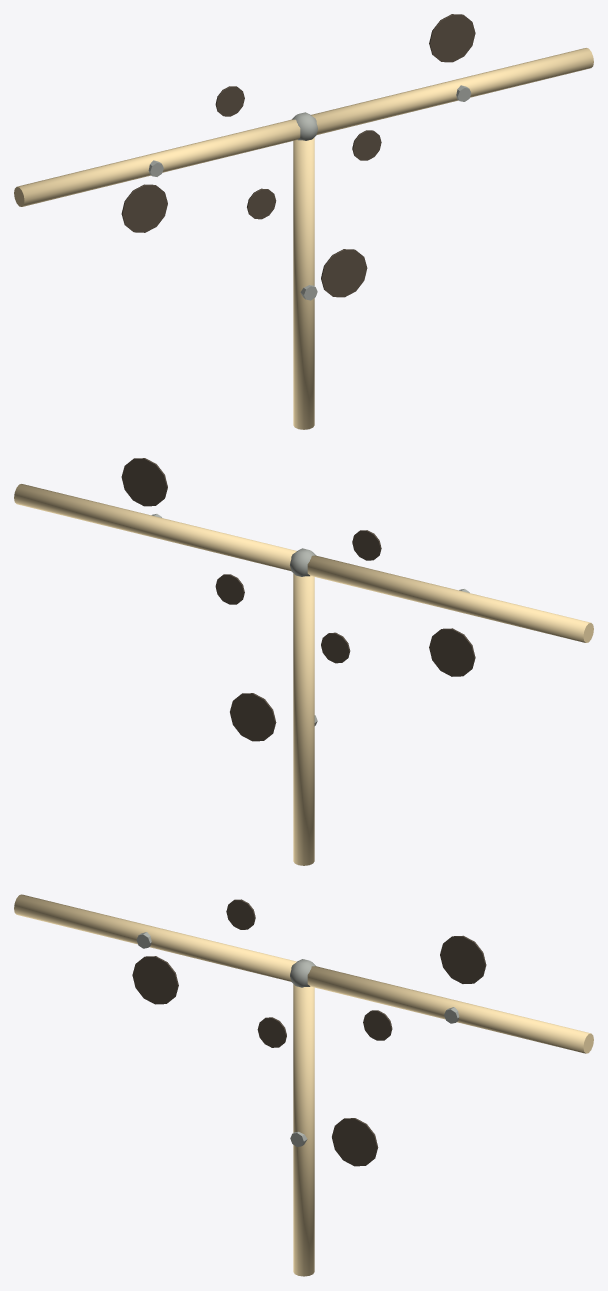
Rendered from drip_m11.obj.
The picture shows the model from 3 angles, top to bottom: view 1: azimuth 30°, elevation 25°; view 2: azimuth 150°, elevation 25°; view 3: azimuth 330°, elevation 25°; orthographic projection.
Parts seen in each view (by area): view 1: hose1, hose8, hose2, wet1_0, wet2_0, wet8_0, wet8_1, wet2_1, wet1_1; view 2: hose1, hose8, hose2, wet1_0, wet8_0, wet2_0, wet2_1, wet8_1, wet1_1; view 3: hose1, hose2, hose8, wet8_0, wet1_0, wet2_0, wet2_1, wet8_1, wet1_1.
Boxes of the visible parts, left/top/right/bottom form: hose1: left=293, top=137, right=314, bottom=429; hose8: left=14, top=119, right=300, bottom=206; hose2: left=311, top=48, right=593, bottom=135; wet1_0: left=321, top=249, right=367, bottom=297; wet2_0: left=429, top=14, right=475, bottom=62; wet8_0: left=121, top=184, right=167, bottom=232; wet8_1: left=215, top=86, right=244, bottom=116; wet2_1: left=352, top=130, right=381, bottom=160; wet1_1: left=247, top=188, right=276, bottom=219; hose1: left=293, top=573, right=314, bottom=865; hose8: left=307, top=555, right=593, bottom=642; hose2: left=14, top=484, right=296, bottom=571; wet1_0: left=230, top=693, right=276, bottom=741; wet8_0: left=429, top=628, right=475, bottom=676; wet2_0: left=121, top=458, right=167, bottom=506; wet2_1: left=215, top=574, right=244, bottom=604; wet8_1: left=352, top=530, right=381, bottom=560; wet1_1: left=321, top=632, right=350, bottom=663; hose1: left=293, top=984, right=314, bottom=1276; hose2: left=307, top=966, right=593, bottom=1053; hose8: left=14, top=894, right=296, bottom=981; wet8_0: left=132, top=956, right=178, bottom=1004; wet1_0: left=332, top=1118, right=378, bottom=1166; wet2_0: left=440, top=935, right=486, bottom=983; wet2_1: left=363, top=1010, right=392, bottom=1040; wet8_1: left=226, top=899, right=255, bottom=929; wet1_1: left=257, top=1017, right=286, bottom=1047.
Size of the model in its own units: 1 by 0.62 by 0.0464.
Materials: 3 (3 with a texture image).
